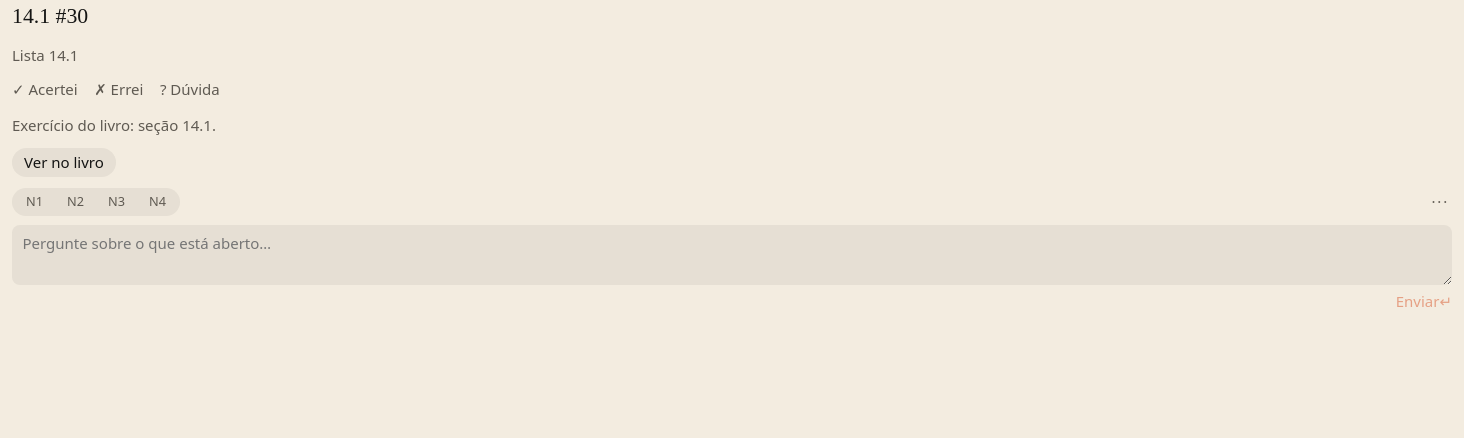
Test: questão que é exercício do livro mostra "Ver no livro" com o enunciado e a resposta
The width and height of the screenshot is (1464, 438).
Click the button "Ver no livro" at (64, 162), box [12,148,116,177]
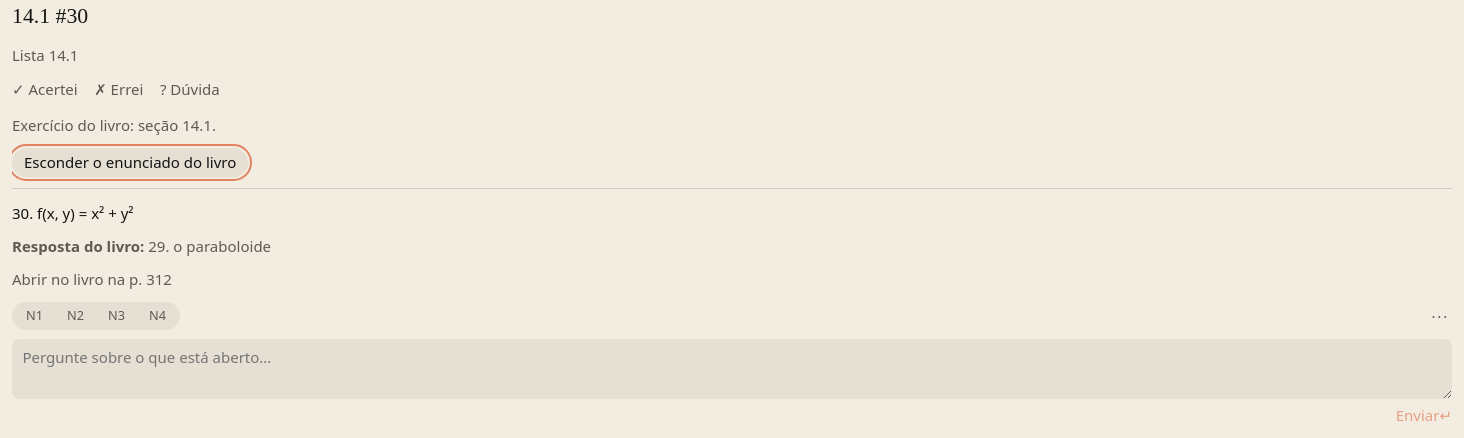
Expected: the text "30. f(x, y) = x² + y²" is shown, [12,203,134,223]
Expected: the text "Resposta do livro: 29. o paraboloide" is shown, [12,236,271,256]
Expected: the link "Abrir no livro na p. 312" is shown, [12,267,172,291]
